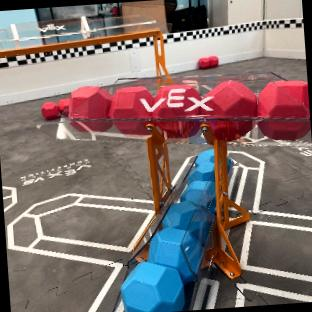V5_BLUE: (121, 261, 183, 312), (148, 222, 202, 280), (162, 196, 211, 242), (180, 180, 215, 208), (189, 148, 214, 181)
V5_RED: (201, 80, 256, 117), (257, 80, 309, 117), (110, 85, 153, 119), (70, 86, 111, 119), (41, 101, 57, 118), (198, 55, 217, 67), (57, 98, 69, 112)
